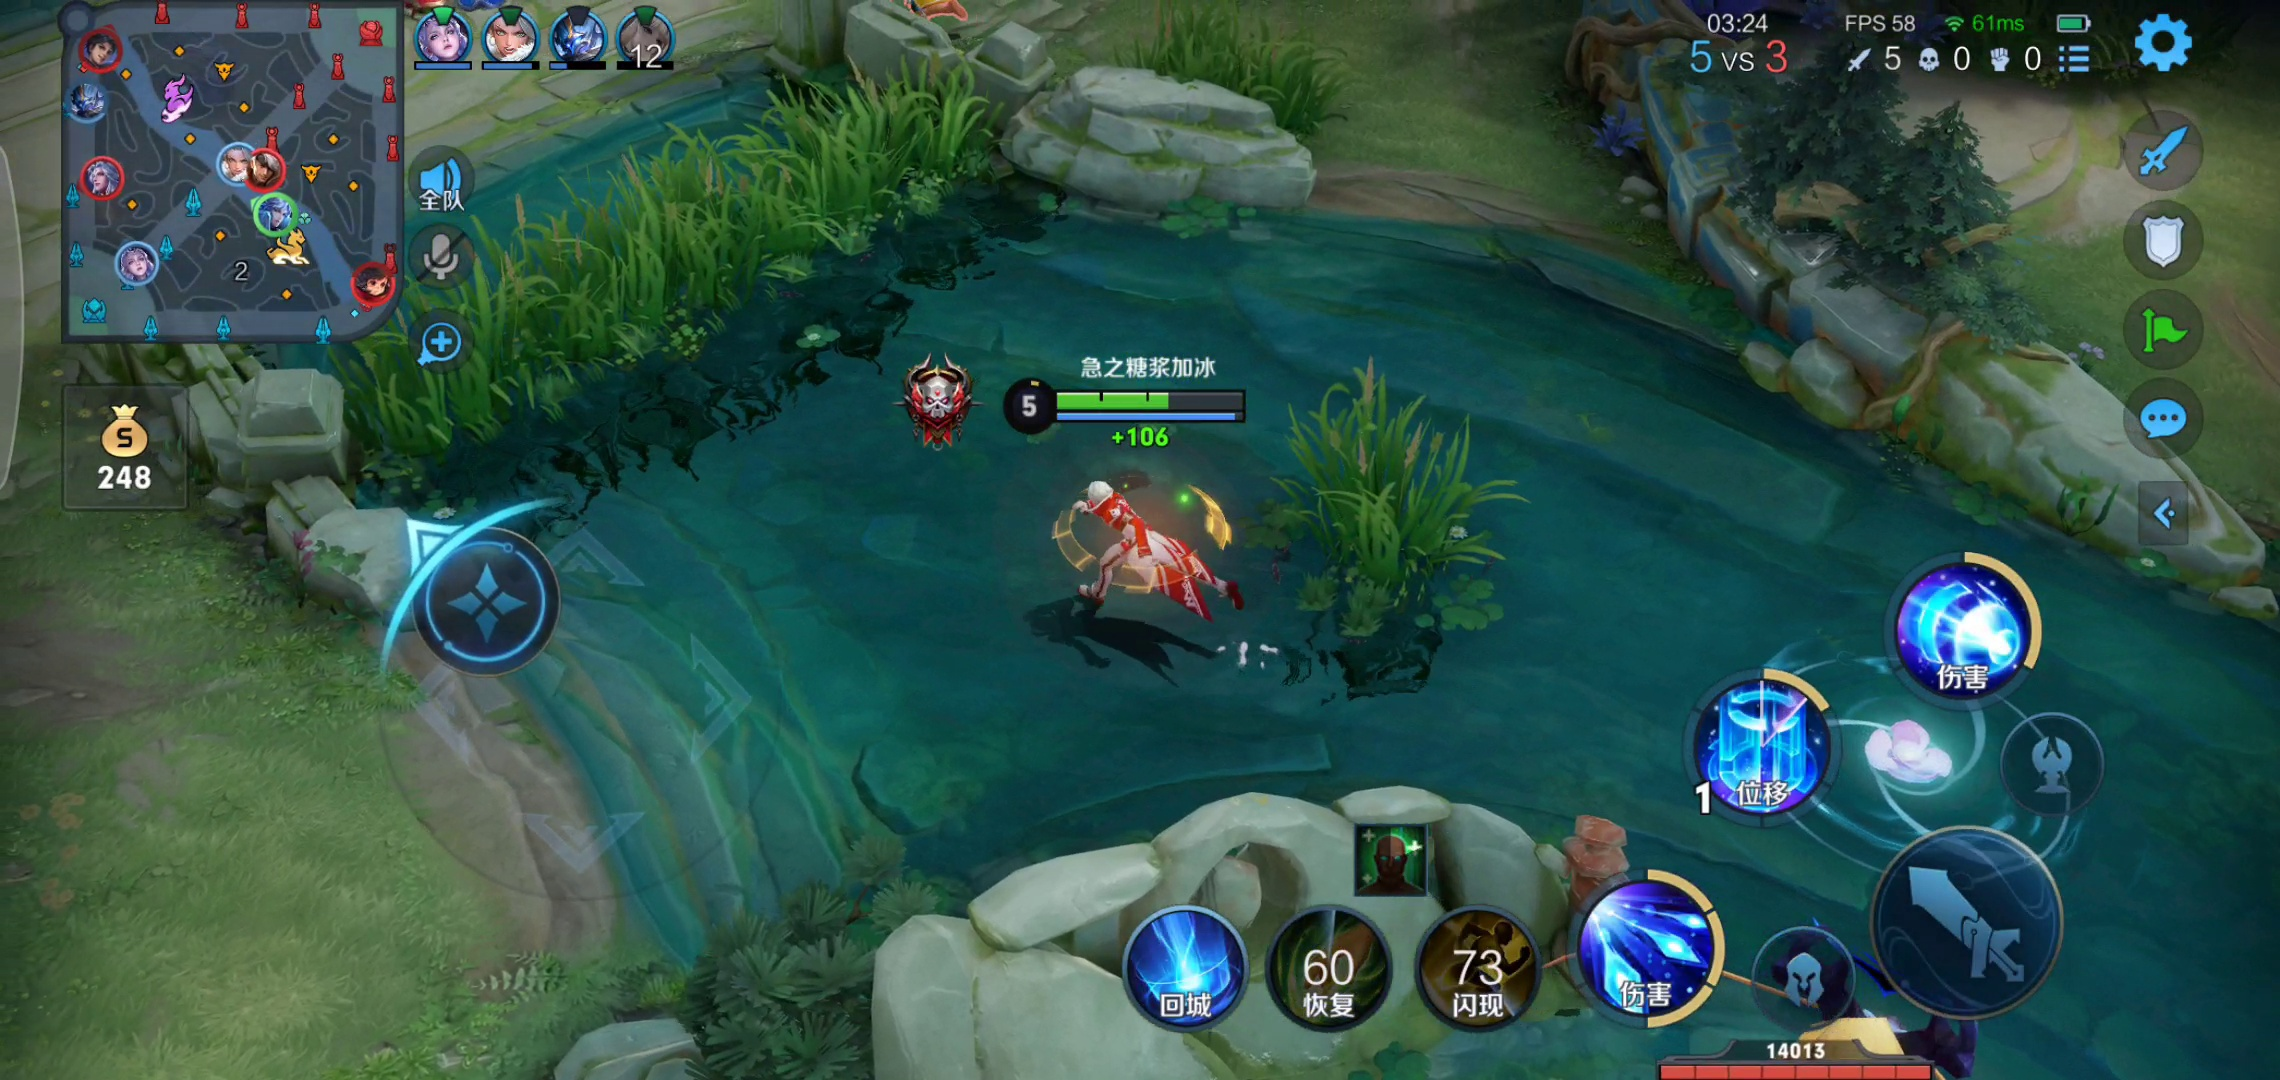grass: (321, 68, 982, 481), (1280, 366, 1488, 638), (1102, 16, 1352, 144)
hero: (1034, 464, 1245, 635)
